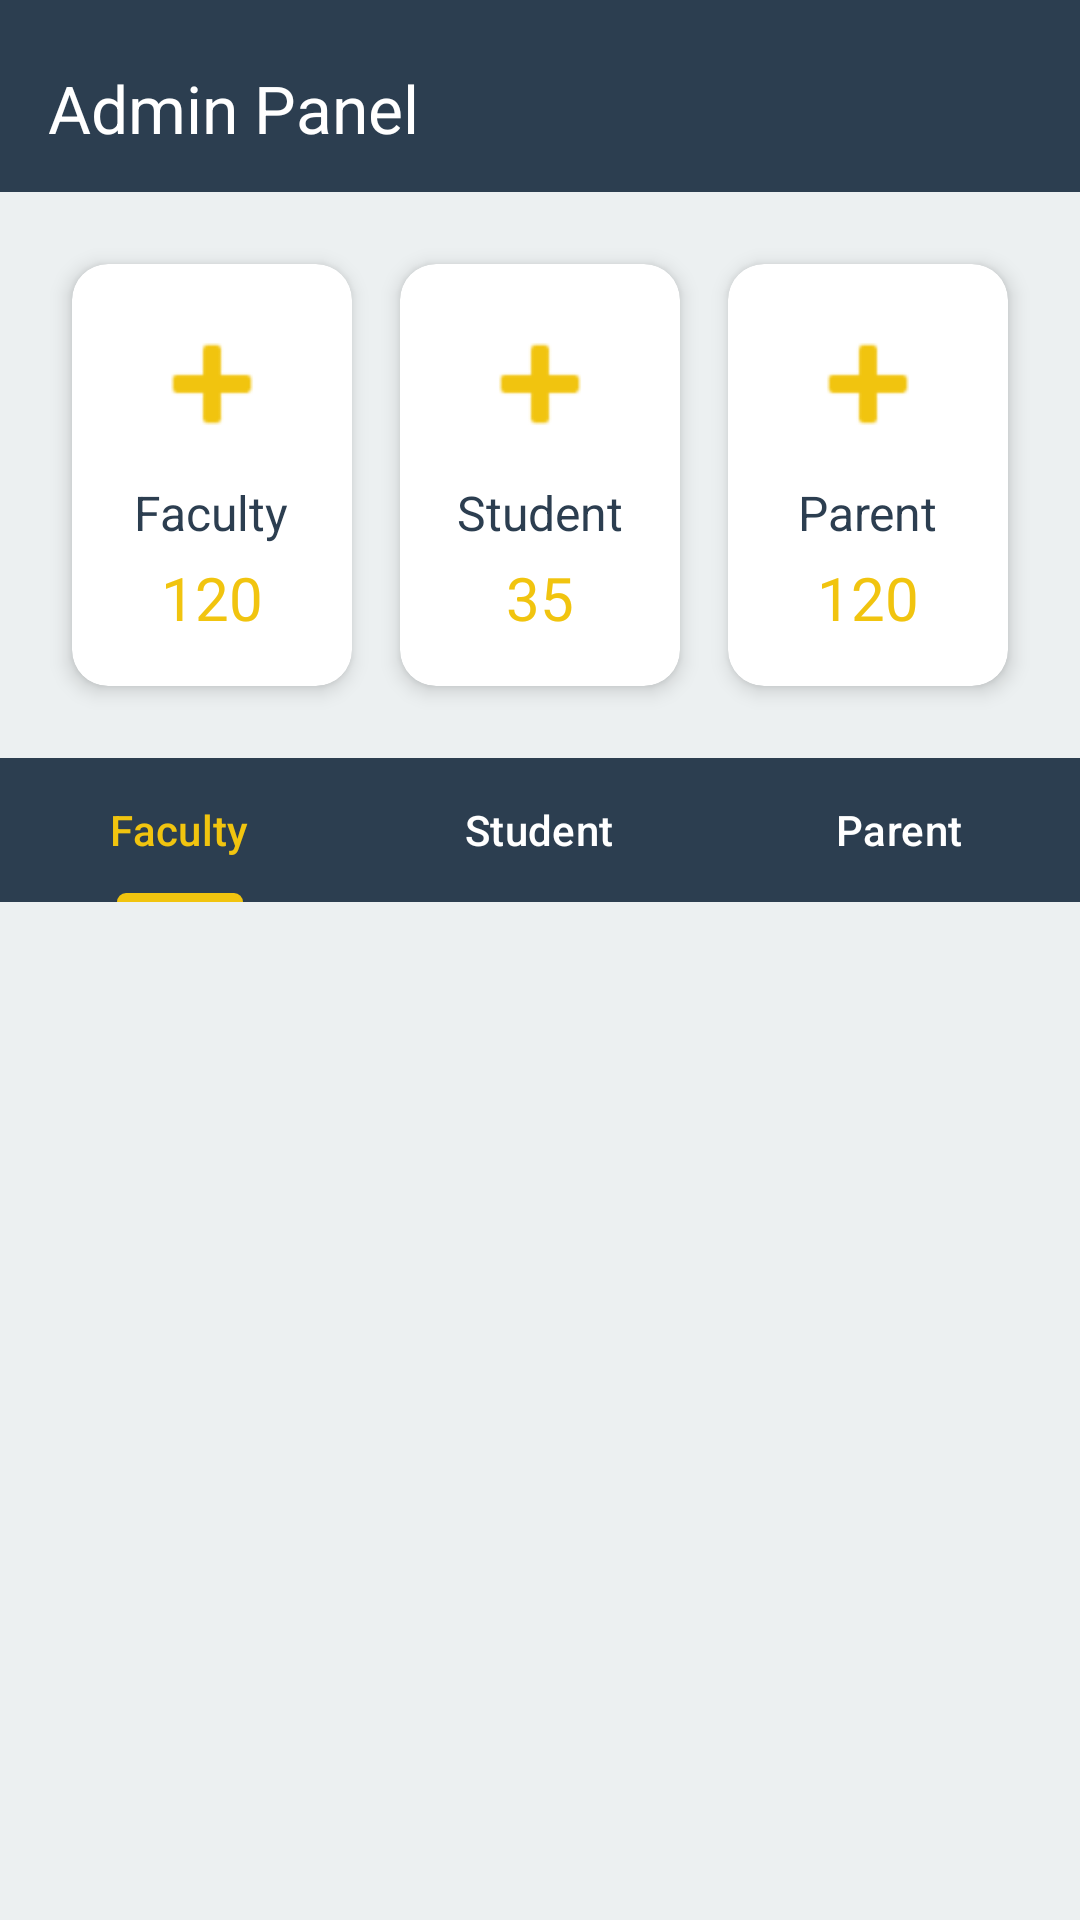

Icons on this 1080px×1920px Android screen, each with its box as (x1, y1, x2, y2):
add: (171, 343, 253, 425), (499, 343, 581, 425), (827, 343, 909, 425)
